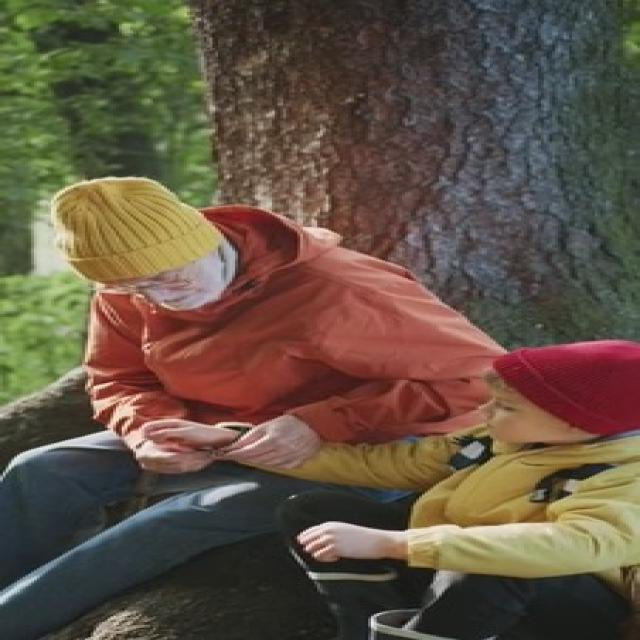Jacket_Wearer: (87, 250, 534, 440)
Person: (55, 171, 504, 557)
